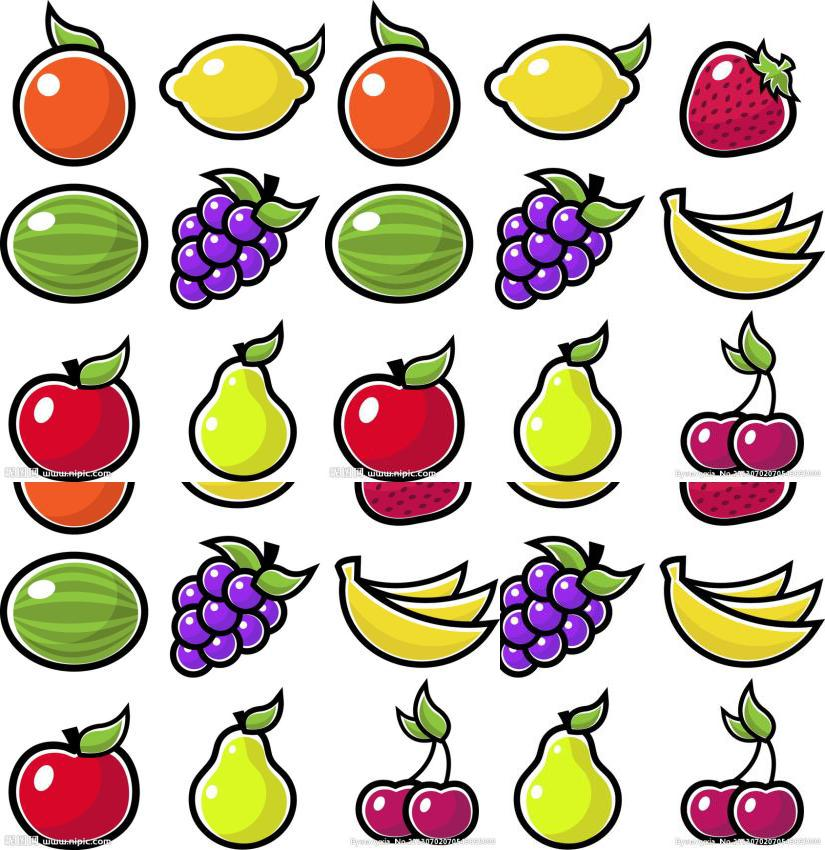fruit1: (334, 0, 462, 167), (10, 1, 137, 167), (9, 481, 137, 535)
fruit2: (158, 158, 323, 310), (482, 158, 648, 309), (157, 526, 323, 677), (499, 526, 648, 677)
fruit3: (656, 180, 825, 301), (331, 548, 500, 669), (656, 548, 825, 669)
fruitn: (671, 306, 807, 476), (346, 674, 482, 844), (671, 674, 807, 844)
